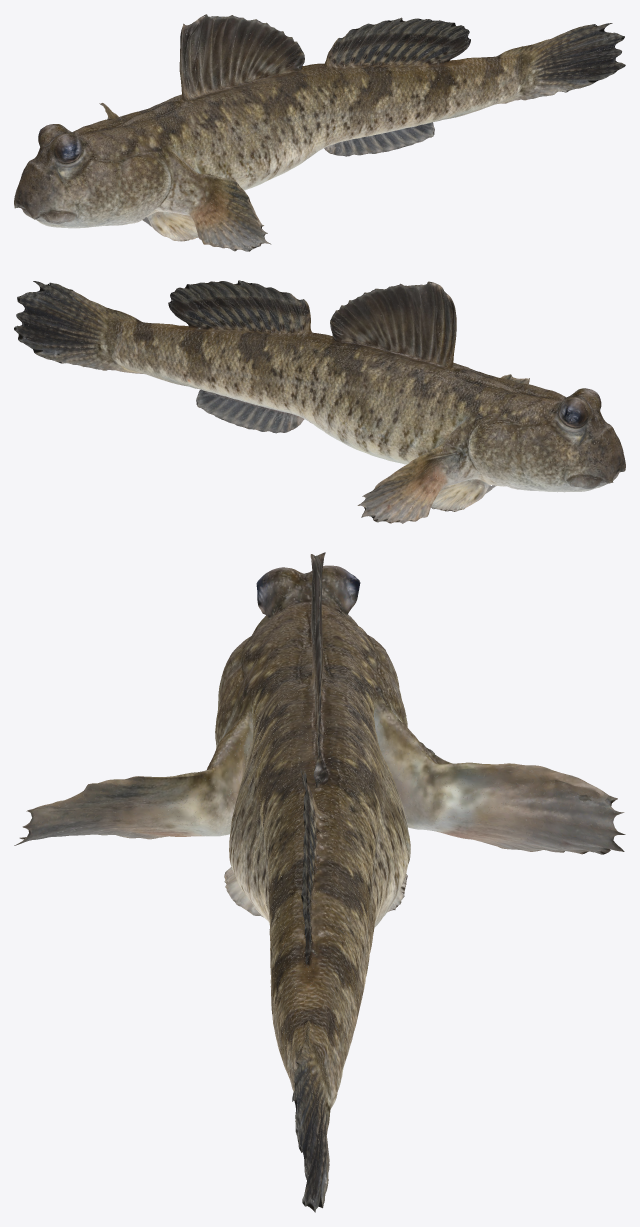
Rendered from periophthalmus_modestus.glb.
3 views of the same model, one above another, from view 1: azimuth 30°, elevation 25°; view 2: azimuth 150°, elevation 25°; view 3: azimuth 270°, elevation 25° (orthographic). The views are drawn at different scales.
Parts seen in each view (by area): view 1: Q11212-1all.001_5; view 2: Q11212-1all.001_5; view 3: Q11212-1all.001_5.
Part boxes in pixels (<box>): Q11212-1all.001_5: <box>14,14,625,251</box>; Q11212-1all.001_5: <box>14,280,625,523</box>; Q11212-1all.001_5: <box>14,552,625,1212</box>.
Bounding box in the file's own units: 4.6 × 1.48 × 2.2.
Materials: 1 (1 with a texture image).
